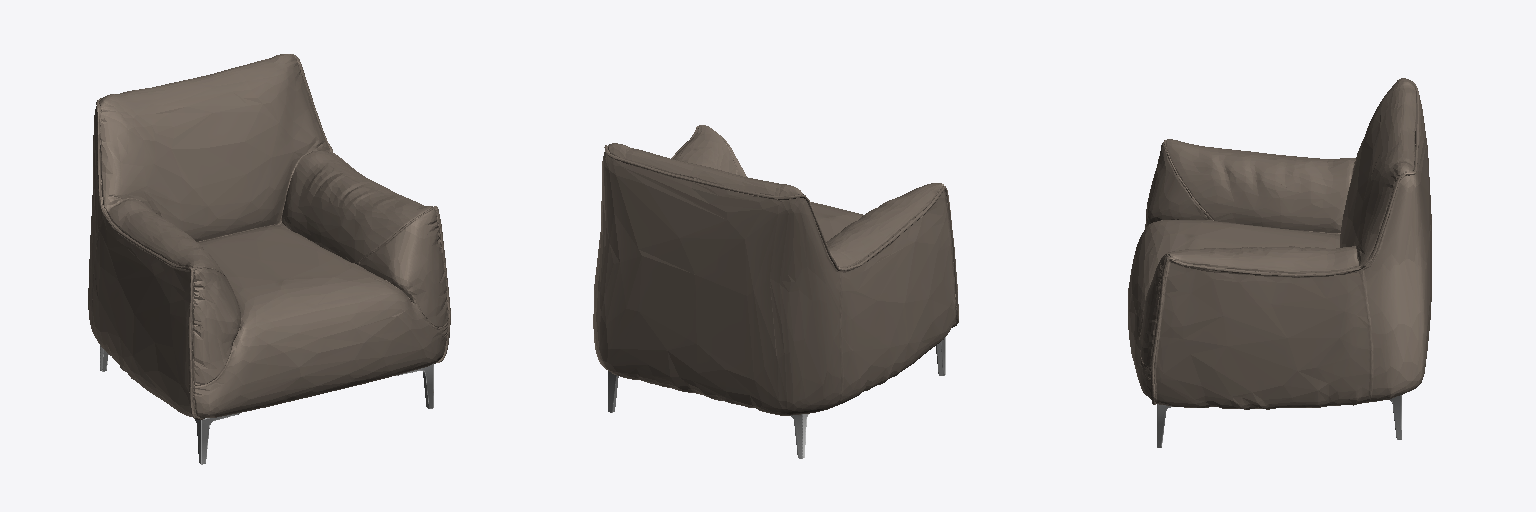
3 renders of one model, left to right at view 1: azimuth 30°, elevation 25°; view 2: azimuth 150°, elevation 25°; view 3: azimuth 270°, elevation 25°, orthographic.
Parts seen in each view (by area): view 1: solid_002, solid_001; view 2: solid_002, solid_001; view 3: solid_002, solid_001.
Boxes of the visible parts, x1=… form: solid_002: x1=88, y1=54, x2=450, y2=419; solid_001: x1=100, y1=345, x2=433, y2=464; solid_002: x1=593, y1=125, x2=958, y2=415; solid_001: x1=608, y1=337, x2=945, y2=458; solid_002: x1=1128, y1=78, x2=1431, y2=409; solid_001: x1=1157, y1=395, x2=1401, y2=447.
Size of the model in its own units: 0.8728 by 0.8568 by 0.8712.
Materials: 1 (1 with a texture image).